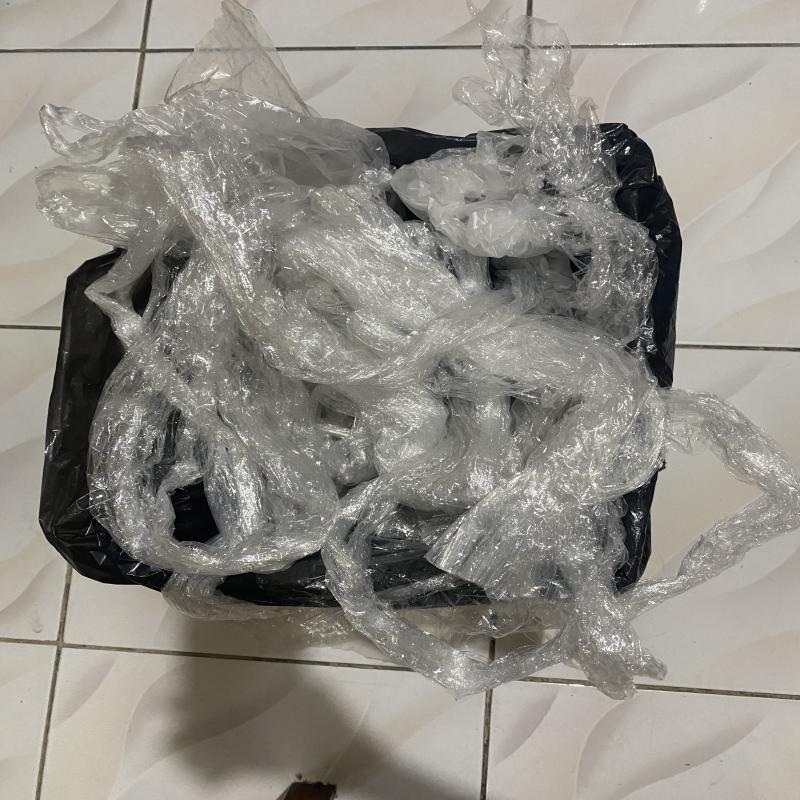plastic bag: (34, 0, 800, 697), (167, 481, 216, 545)
